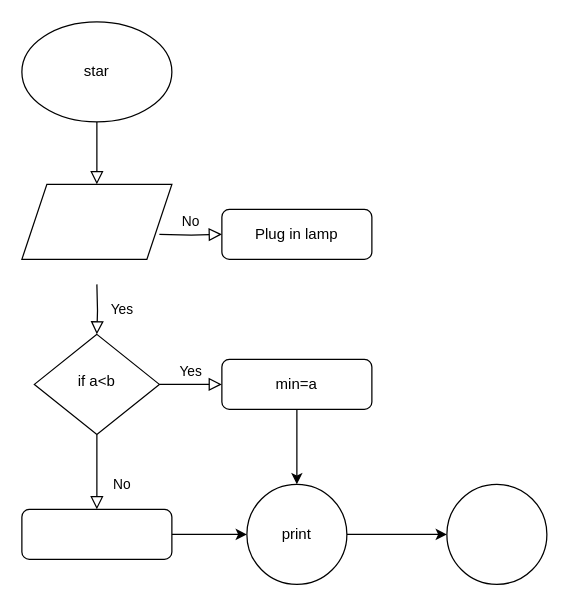
Image size: 569x606. Some labels were removed from this diagram. Each missing label, with the centre of its shape:
a,b: the point at 96,221
min=b: the point at 96,533
